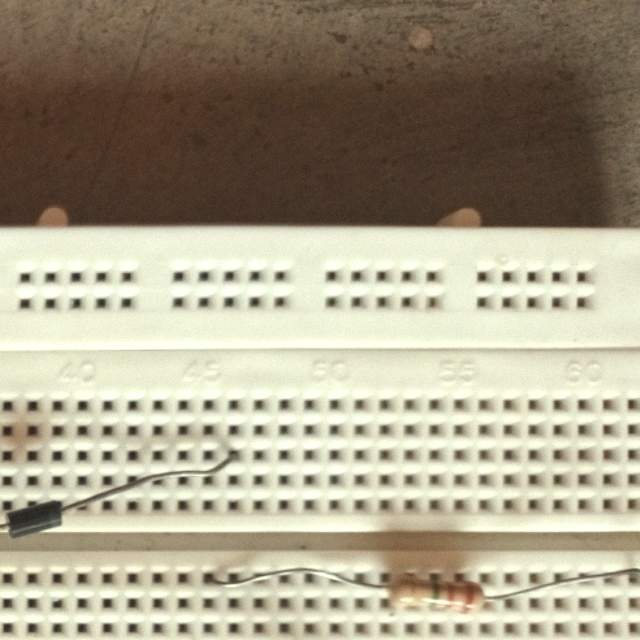resistor: (387, 572, 486, 616)
